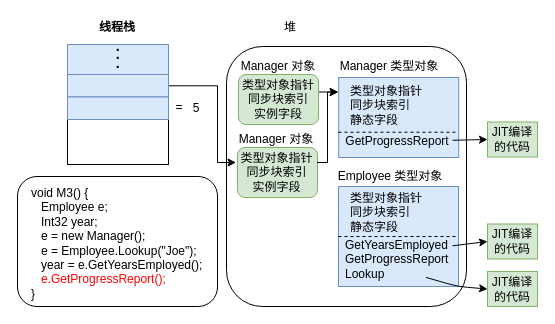
Image size: 555x324. Some labels were removed from this diagram. Each missing label, with the box of its shape:
e(Employee): (66, 74, 168, 97)
year(Int32): (66, 96, 168, 120)
